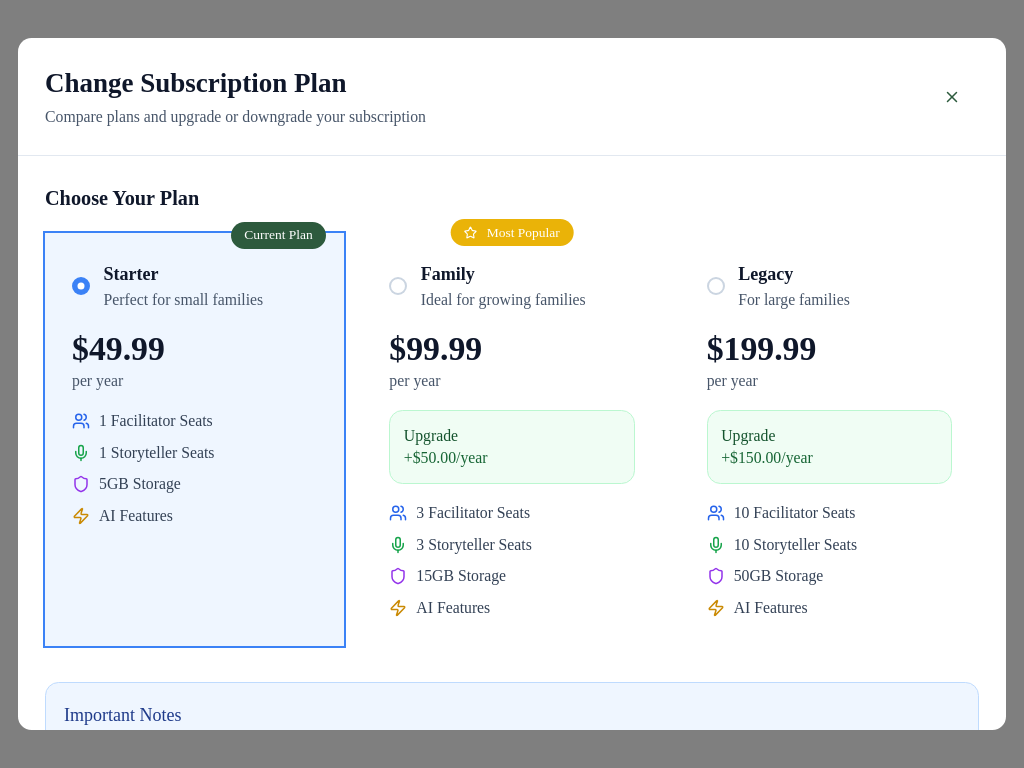
Scenario: SubscriptionUpgradeModal › Feature Comparison › shows feature comparison when different plan is selected
This screenshot has width=1024, height=768.
Select Family plan
Click the text "Family" at point(448, 274), box [421,260,586,311]
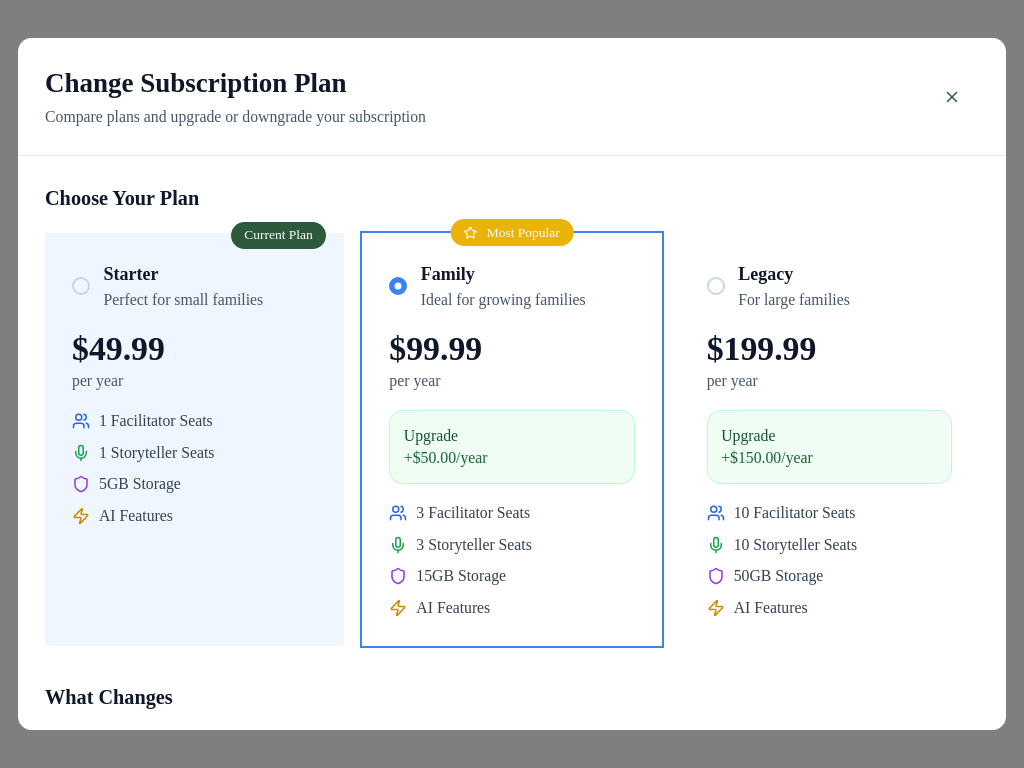
Expected: the heading "What Changes" is shown, [45,686,173,708]
